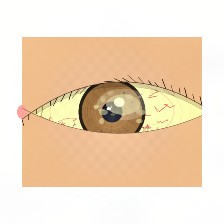corneal_ulcer: (96, 82, 151, 127)
